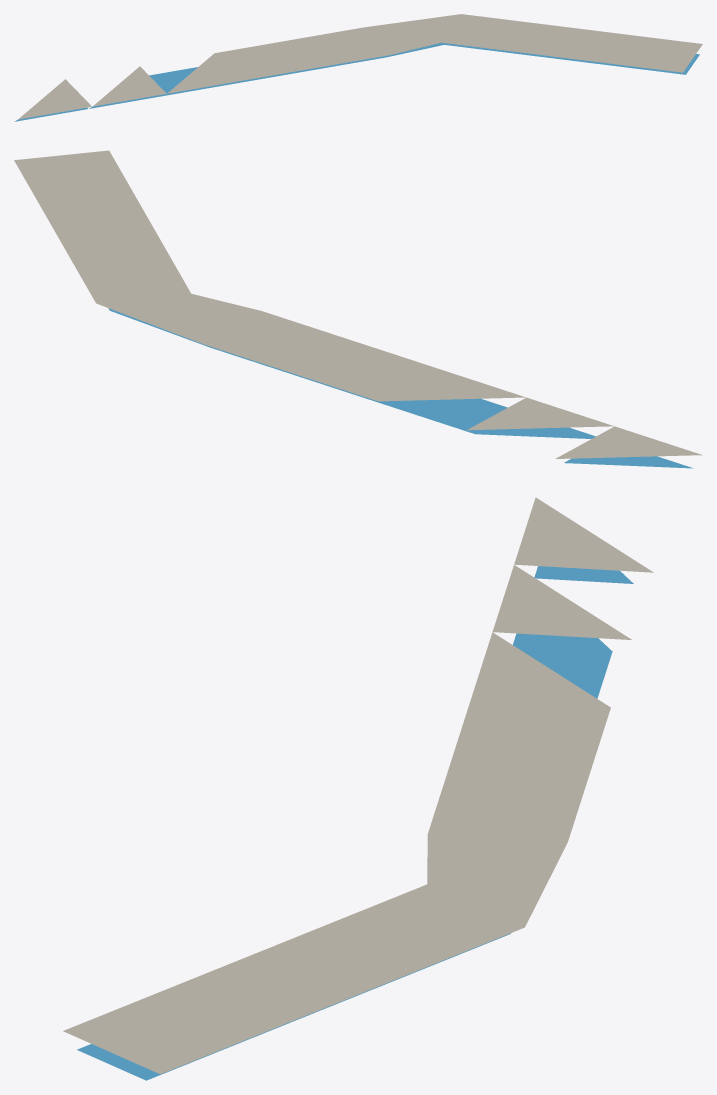
The picture shows the model from 3 angles, top to bottom: view 1: azimuth 30°, elevation 25°; view 2: azimuth 150°, elevation 25°; view 3: azimuth 270°, elevation 25°; orthographic projection. The views are drawn at different scales.
Visible parts, largest first — view 1: estructura_terreno, estructura_agua; view 2: estructura_terreno, estructura_agua; view 3: estructura_terreno, estructura_agua.
Boxes of the visible parts, bbox=[...] form: estructura_terreno: bbox=[18, 14, 702, 119]; estructura_agua: bbox=[14, 42, 699, 121]; estructura_terreno: bbox=[14, 150, 702, 458]; estructura_agua: bbox=[108, 308, 693, 468]; estructura_terreno: bbox=[63, 497, 653, 1074]; estructura_agua: bbox=[77, 566, 633, 1080].
Bounding box in the file's own units: 40.54 × 0.41 × 17.56.
